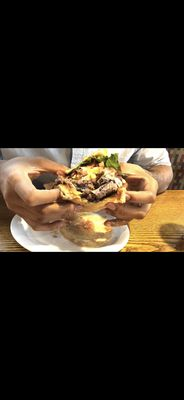pizza: (0, 149, 171, 246)
